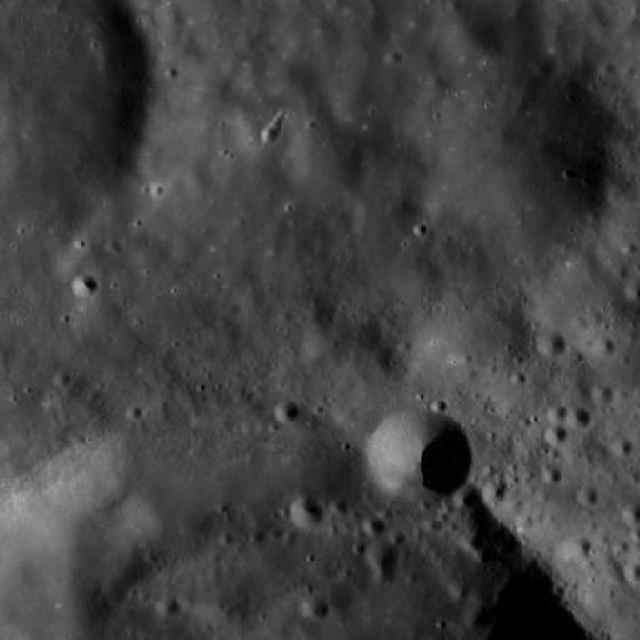crater: (418, 59, 624, 255), (366, 406, 472, 506), (298, 312, 400, 408), (430, 297, 530, 391), (290, 129, 367, 203), (434, 0, 508, 68), (265, 54, 321, 106), (393, 252, 444, 300), (329, 73, 378, 121), (552, 368, 597, 410), (54, 247, 92, 284), (300, 298, 336, 332), (290, 497, 326, 531), (386, 195, 420, 228), (583, 6, 617, 39), (365, 538, 398, 570), (157, 2, 186, 30), (301, 593, 330, 621), (537, 331, 565, 357), (466, 604, 492, 630), (314, 23, 340, 48), (568, 407, 594, 430), (275, 400, 300, 423), (72, 274, 96, 297), (566, 534, 588, 558), (374, 563, 398, 585), (448, 578, 472, 600), (590, 385, 613, 407), (534, 53, 557, 75), (483, 480, 506, 502), (592, 334, 614, 356), (462, 530, 484, 552), (156, 595, 178, 617), (456, 488, 478, 510), (544, 424, 566, 444), (576, 486, 598, 506), (364, 516, 386, 536), (507, 0, 533, 15), (547, 405, 567, 423), (613, 438, 633, 456), (476, 544, 494, 564), (262, 127, 281, 144), (624, 561, 640, 581), (330, 498, 348, 514), (599, 60, 616, 76), (544, 466, 561, 482), (426, 516, 442, 532)
